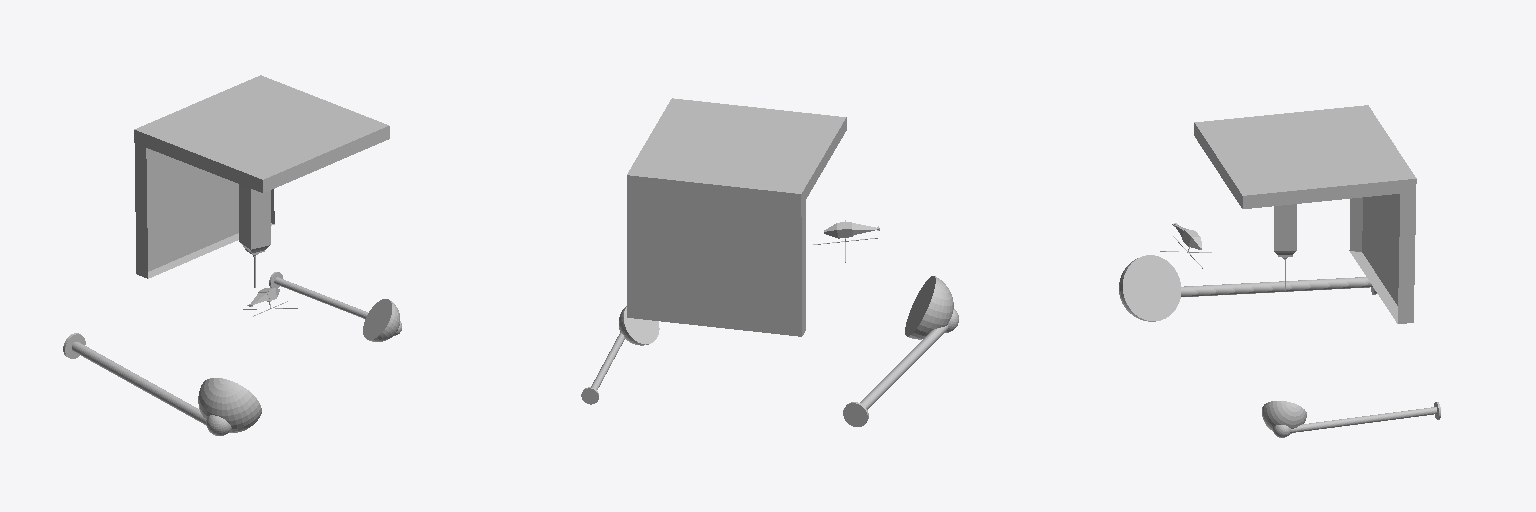
Rendered from work_section.obj.
3 renders of one model, left to right at view 1: azimuth 30°, elevation 25°; view 2: azimuth 150°, elevation 25°; view 3: azimuth 270°, elevation 25°, orthographic.
Parts seen in each view (by area): view 1: Cube_Cube.001; view 2: Cube_Cube.001; view 3: Cube_Cube.001.
Part boxes in pixels (left/top/right/bottom): Cube_Cube.001: left=63, top=75, right=401, bottom=435; Cube_Cube.001: left=581, top=98, right=958, bottom=426; Cube_Cube.001: left=1119, top=105, right=1440, bottom=437.
Bounding box in the file's own units: 10.79 × 8.18 × 10.29.